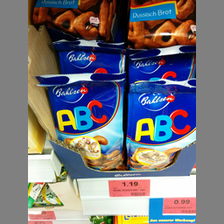chocolate: (35, 70, 126, 170), (126, 76, 196, 171), (124, 1, 196, 51), (33, 1, 118, 42)
